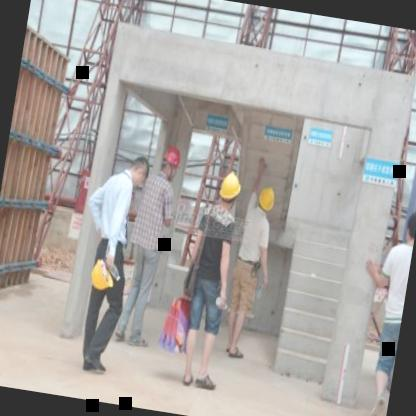head: (120, 147, 155, 197), (398, 203, 416, 246)
helmet: (216, 167, 244, 212), (158, 141, 182, 184), (256, 182, 278, 219)
